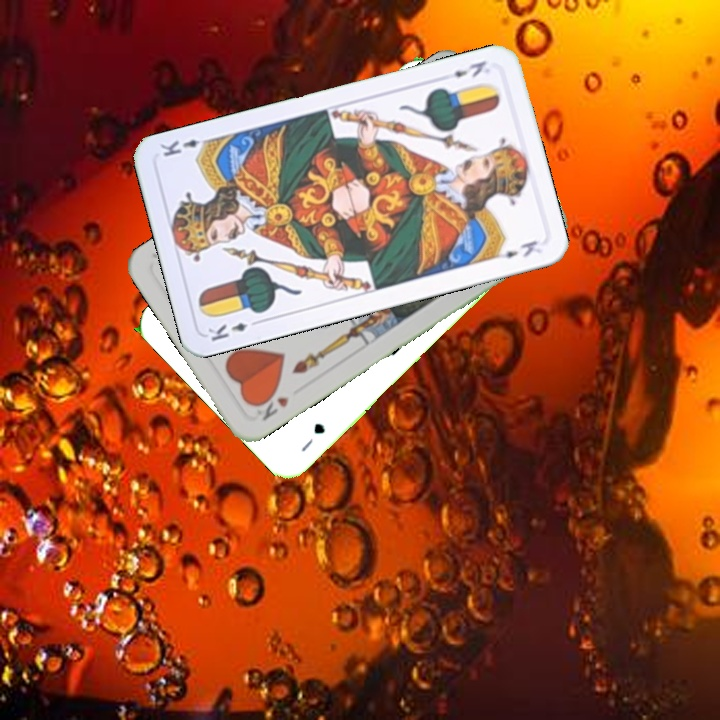EK: (203, 315, 263, 344), (449, 56, 489, 80)
GU: (297, 419, 328, 455)
HK: (250, 387, 292, 424)
